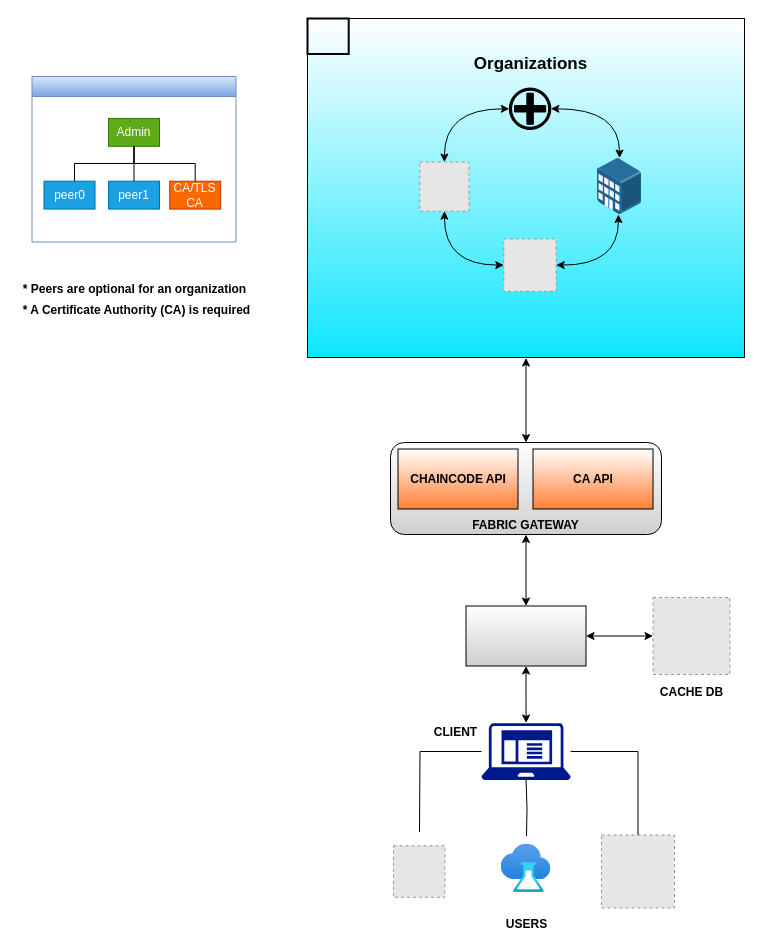
The diagram is 762 pixels wide and 950 high, and some of its shapes have lost their labels. Grey dashed boxes stand in for pictures. The box of each missing label's shape, as (x1, y1, x2, y2) in pixels:
BACKEND MODULE: (465, 605, 586, 666)
Fabric Network: (306, 17, 349, 54)
Organization: (31, 76, 236, 242)
